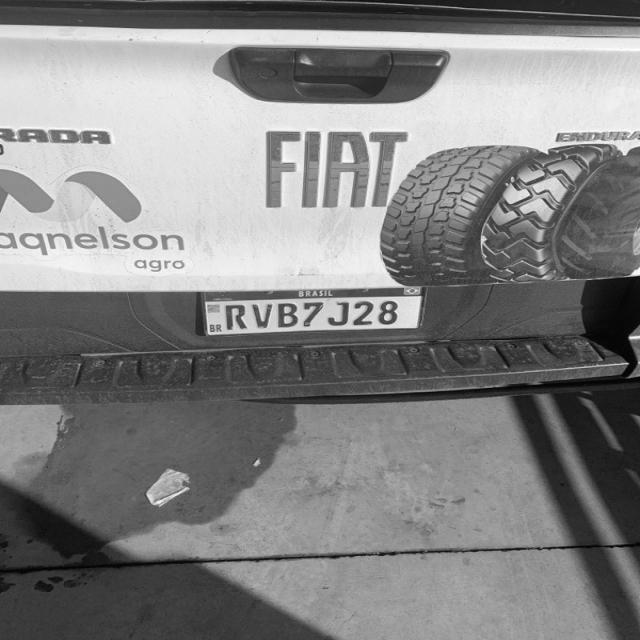placa_mercosul: (202, 288, 427, 335)
